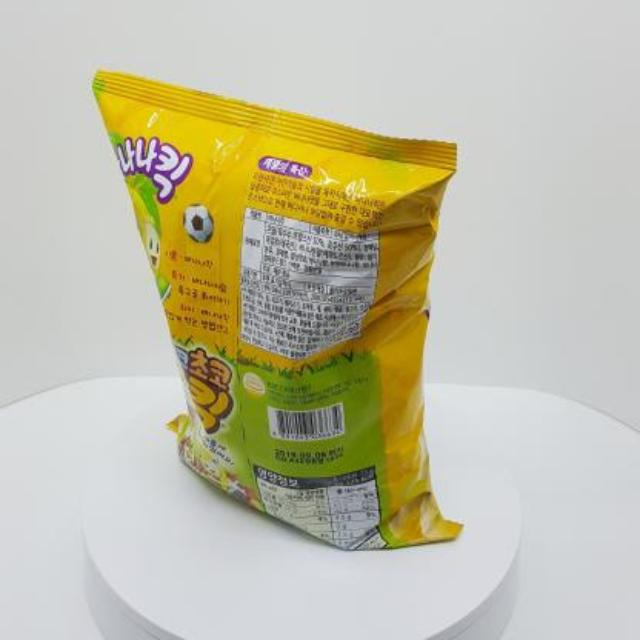snack_bag: (80, 60, 476, 562)
